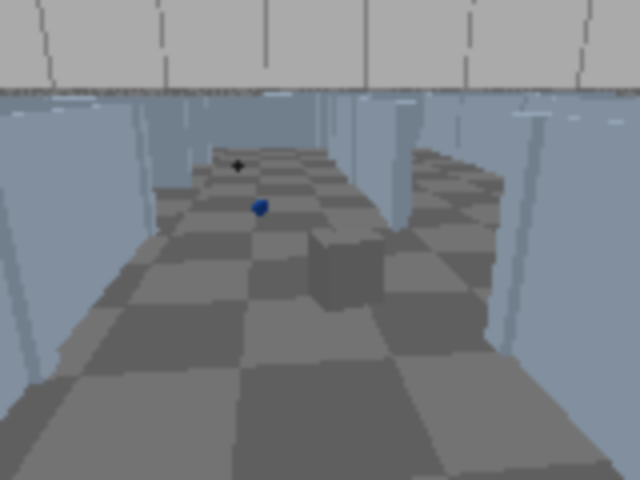obstacle: (309, 226, 386, 313)
puck: (250, 197, 271, 217)
